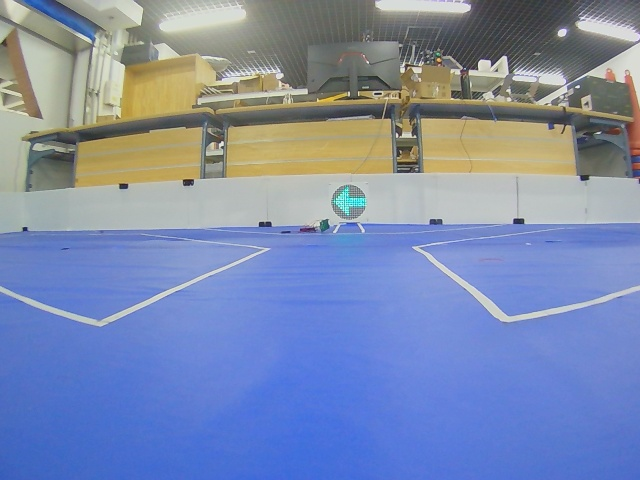left_green: (331, 185, 367, 220)
